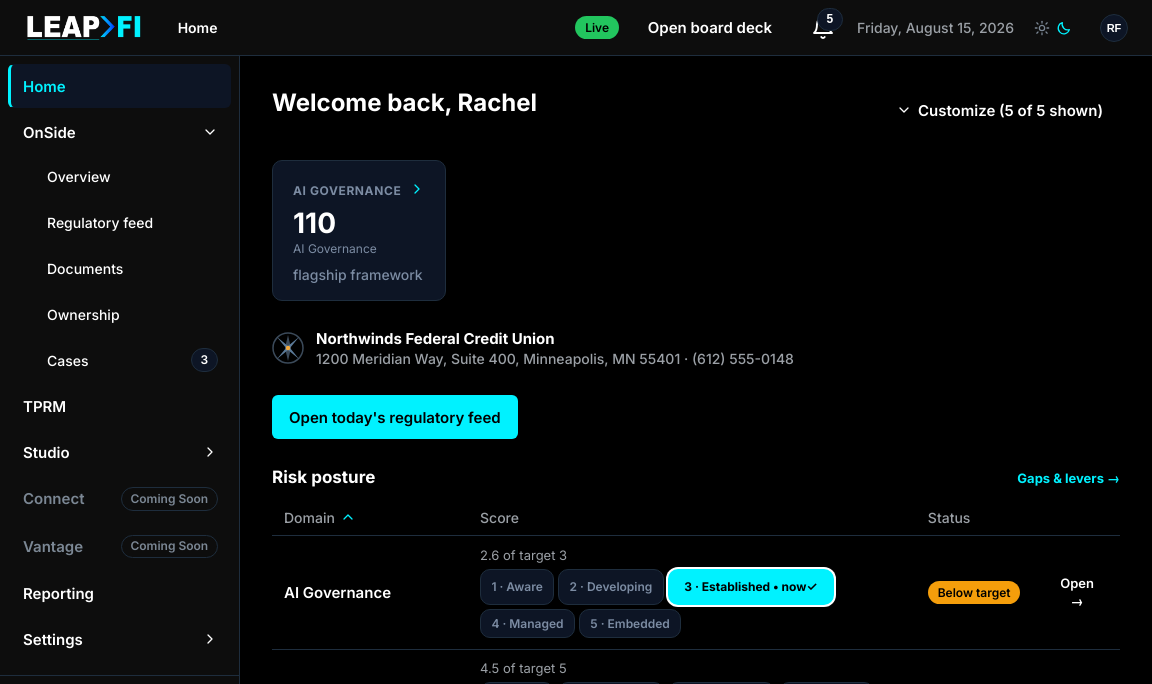
Test case: Sidebar — TPRM top-level entry (D3, L9) › clicking TPRM navigates to the TprmDomain screen and updates the Topbar breadcrumb
Click the button "TPRM" at coordinates (120, 406), box 8,384 -> 231,428
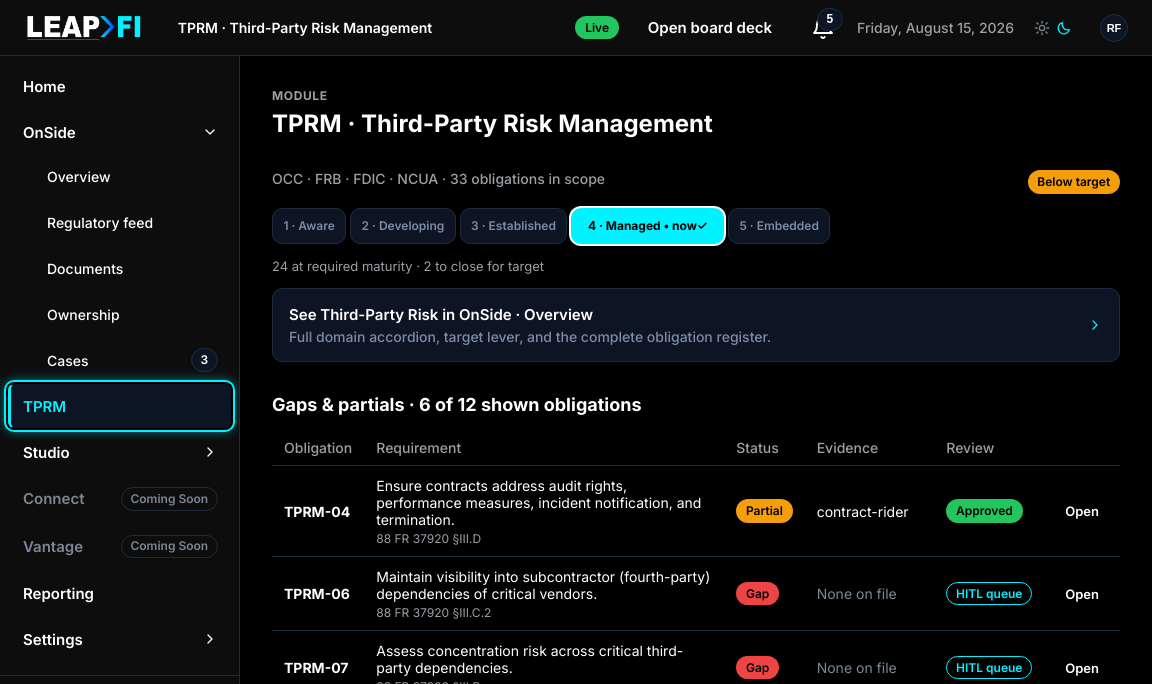
Expected: the heading "TPRM · Third-Party Risk Management" is shown, 272,109 -> 713,138
